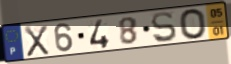4: (88, 17, 111, 50)
6: (53, 22, 75, 54)
8: (117, 15, 140, 46)
O: (177, 7, 209, 41)
S: (150, 11, 179, 44)
X: (23, 24, 51, 58)
